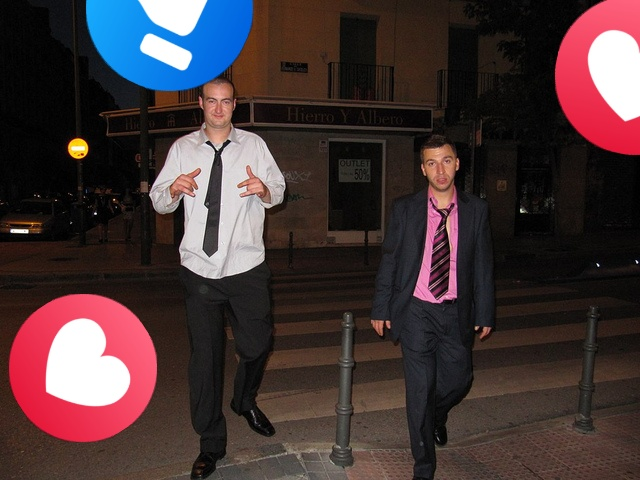like: (86, 0, 253, 91)
love: (9, 294, 157, 442), (555, 0, 640, 155)
